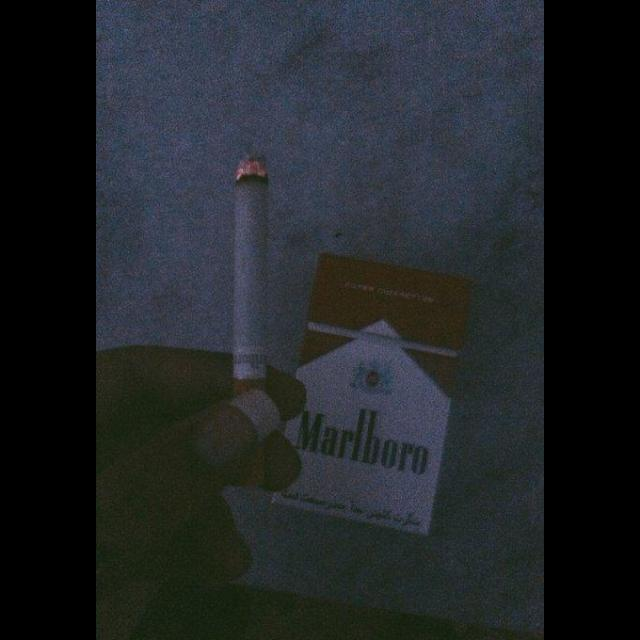rokok: (230, 150, 280, 498)
